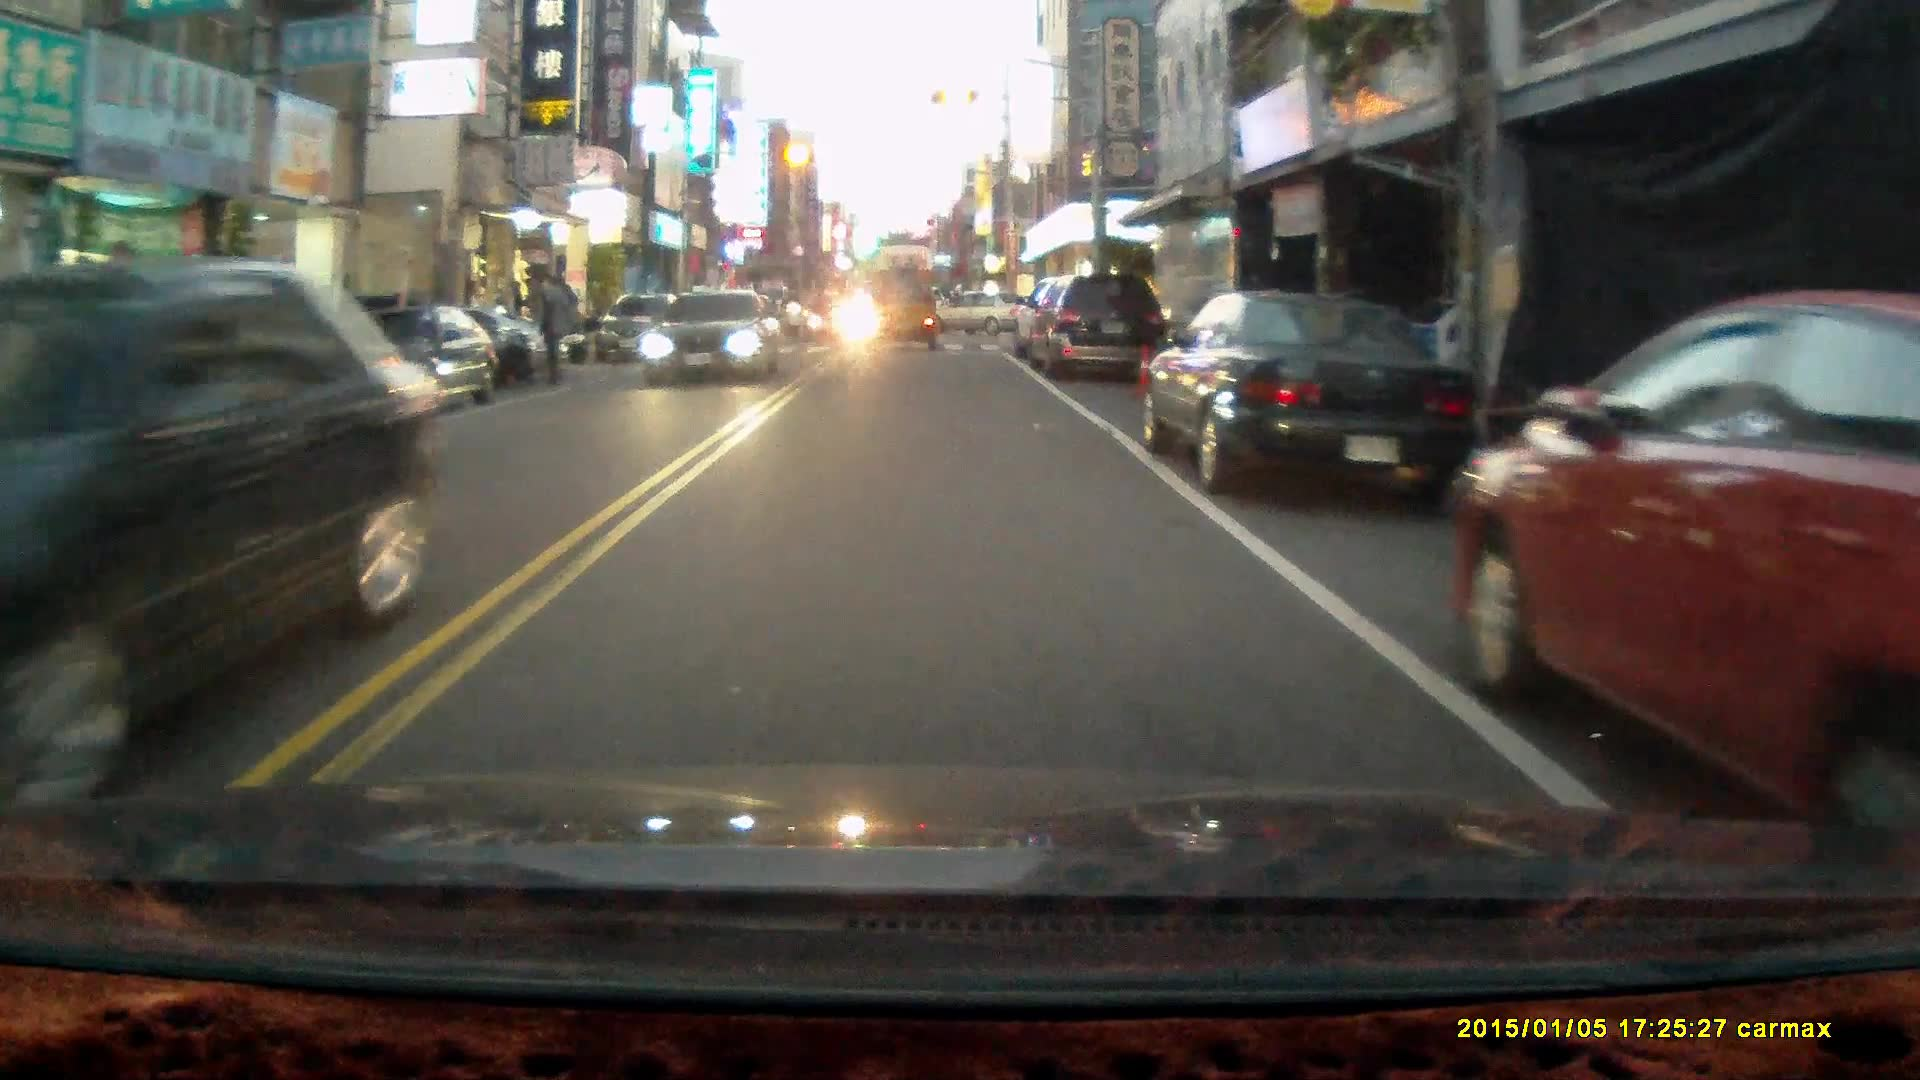pedestrian: (535, 268, 575, 386)
vehicle: (1454, 288, 1920, 833), (8, 256, 444, 803), (1138, 288, 1482, 510), (1022, 275, 1171, 383), (643, 286, 781, 386), (921, 286, 1050, 338), (598, 288, 694, 356), (867, 270, 938, 353)
